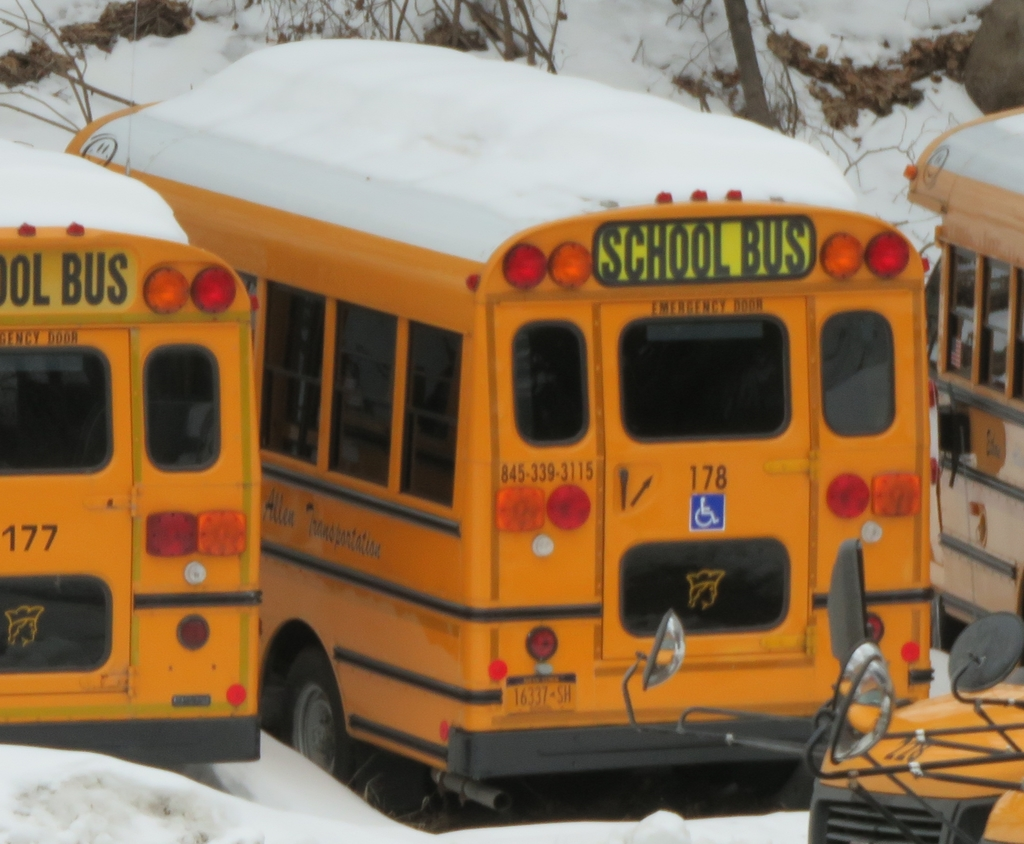Bus: (53, 26, 933, 818), (0, 135, 270, 766), (895, 97, 1023, 639), (808, 607, 1023, 843)
